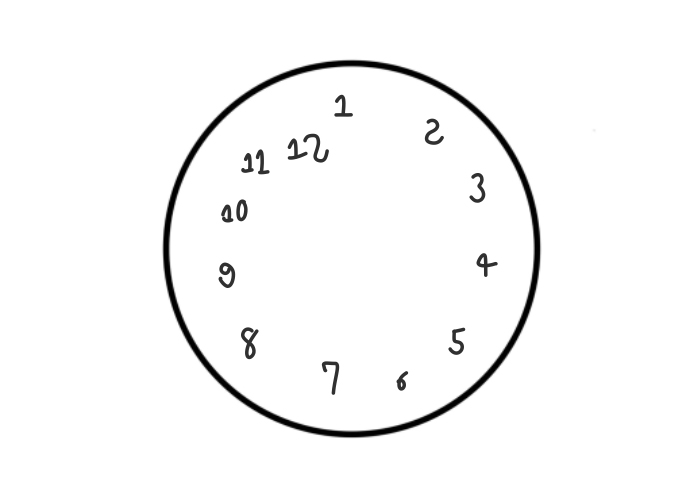eight: (237, 325, 262, 363)
eleven: (242, 150, 273, 177)
five: (448, 326, 468, 358)
four: (471, 245, 500, 280)
nine: (216, 260, 237, 291)
one: (328, 89, 356, 122)
seven: (320, 357, 340, 398)
six: (391, 370, 412, 393)
ten: (218, 197, 250, 224)
three: (468, 167, 486, 206)
twelve: (287, 133, 331, 164)
two: (420, 112, 447, 150)
